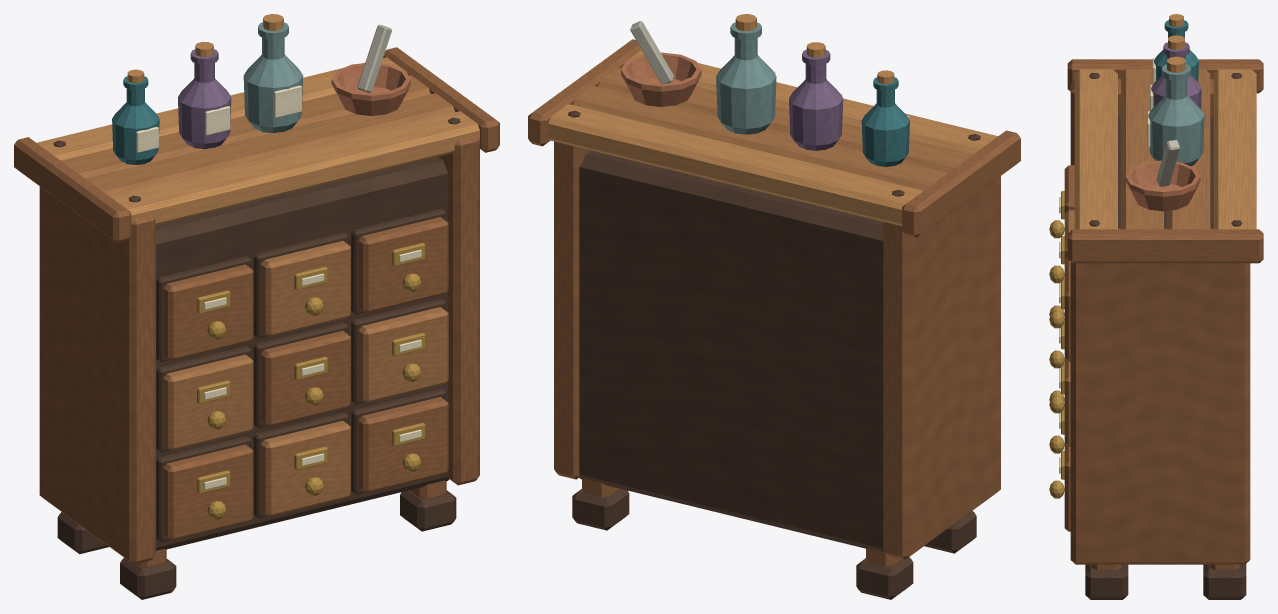
The model's file is cabinet_apothecary.glb.
3 views of the same model, side by side, from view 1: azimuth 30°, elevation 25°; view 2: azimuth 150°, elevation 25°; view 3: azimuth 270°, elevation 25° (orthographic). The views are drawn at different scales.
Visible parts, largest first — view 1: cabinet_apothecary; view 2: cabinet_apothecary; view 3: cabinet_apothecary.
Boxes of the visible parts, <box> form: cabinet_apothecary: <box>14,14,499,599</box>; cabinet_apothecary: <box>528,14,1020,599</box>; cabinet_apothecary: <box>1049,14,1263,599</box>.
Bounding box in the file's own units: 1.57 × 1.97 × 0.799.
Materials: 1 (1 with a texture image).
